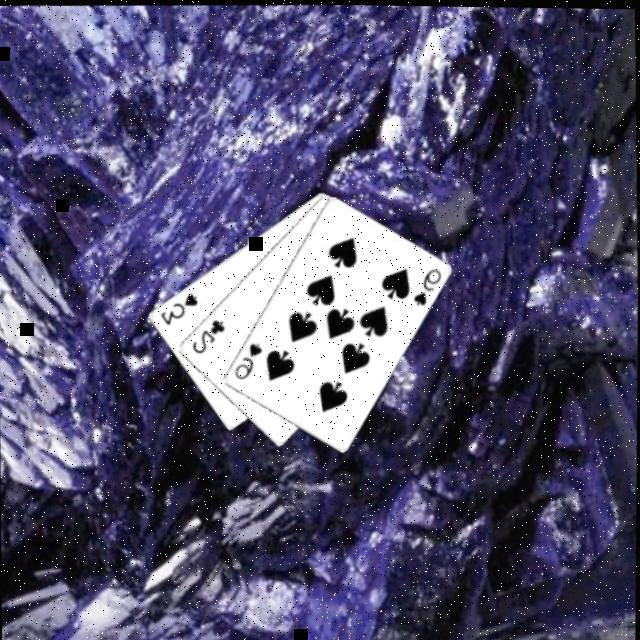2C: (185, 313, 226, 356)
3S: (154, 287, 199, 327)
9S: (407, 262, 442, 306), (228, 337, 263, 380)
